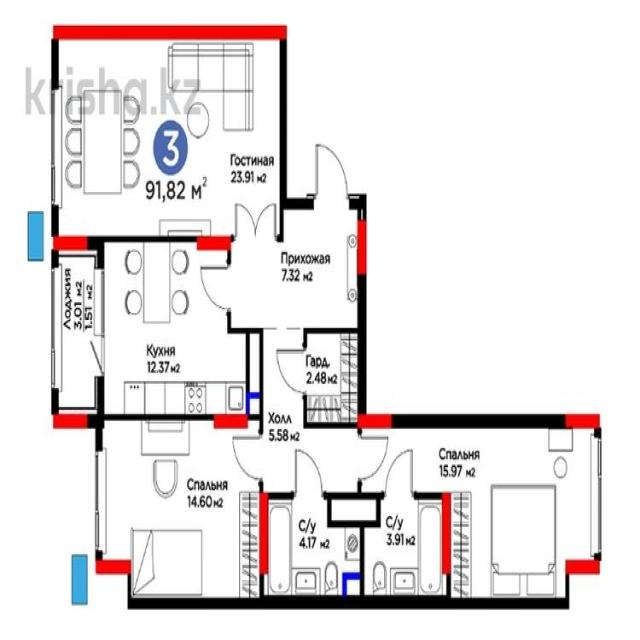balcony: (54, 247, 103, 418)
bathroom: (265, 494, 359, 602), (360, 493, 442, 603)
hallway: (228, 198, 363, 330), (260, 327, 362, 495)
kitchen: (103, 243, 247, 423)
living_room: (56, 31, 283, 238), (96, 417, 263, 604), (440, 422, 598, 606)
other: (303, 331, 362, 427)
